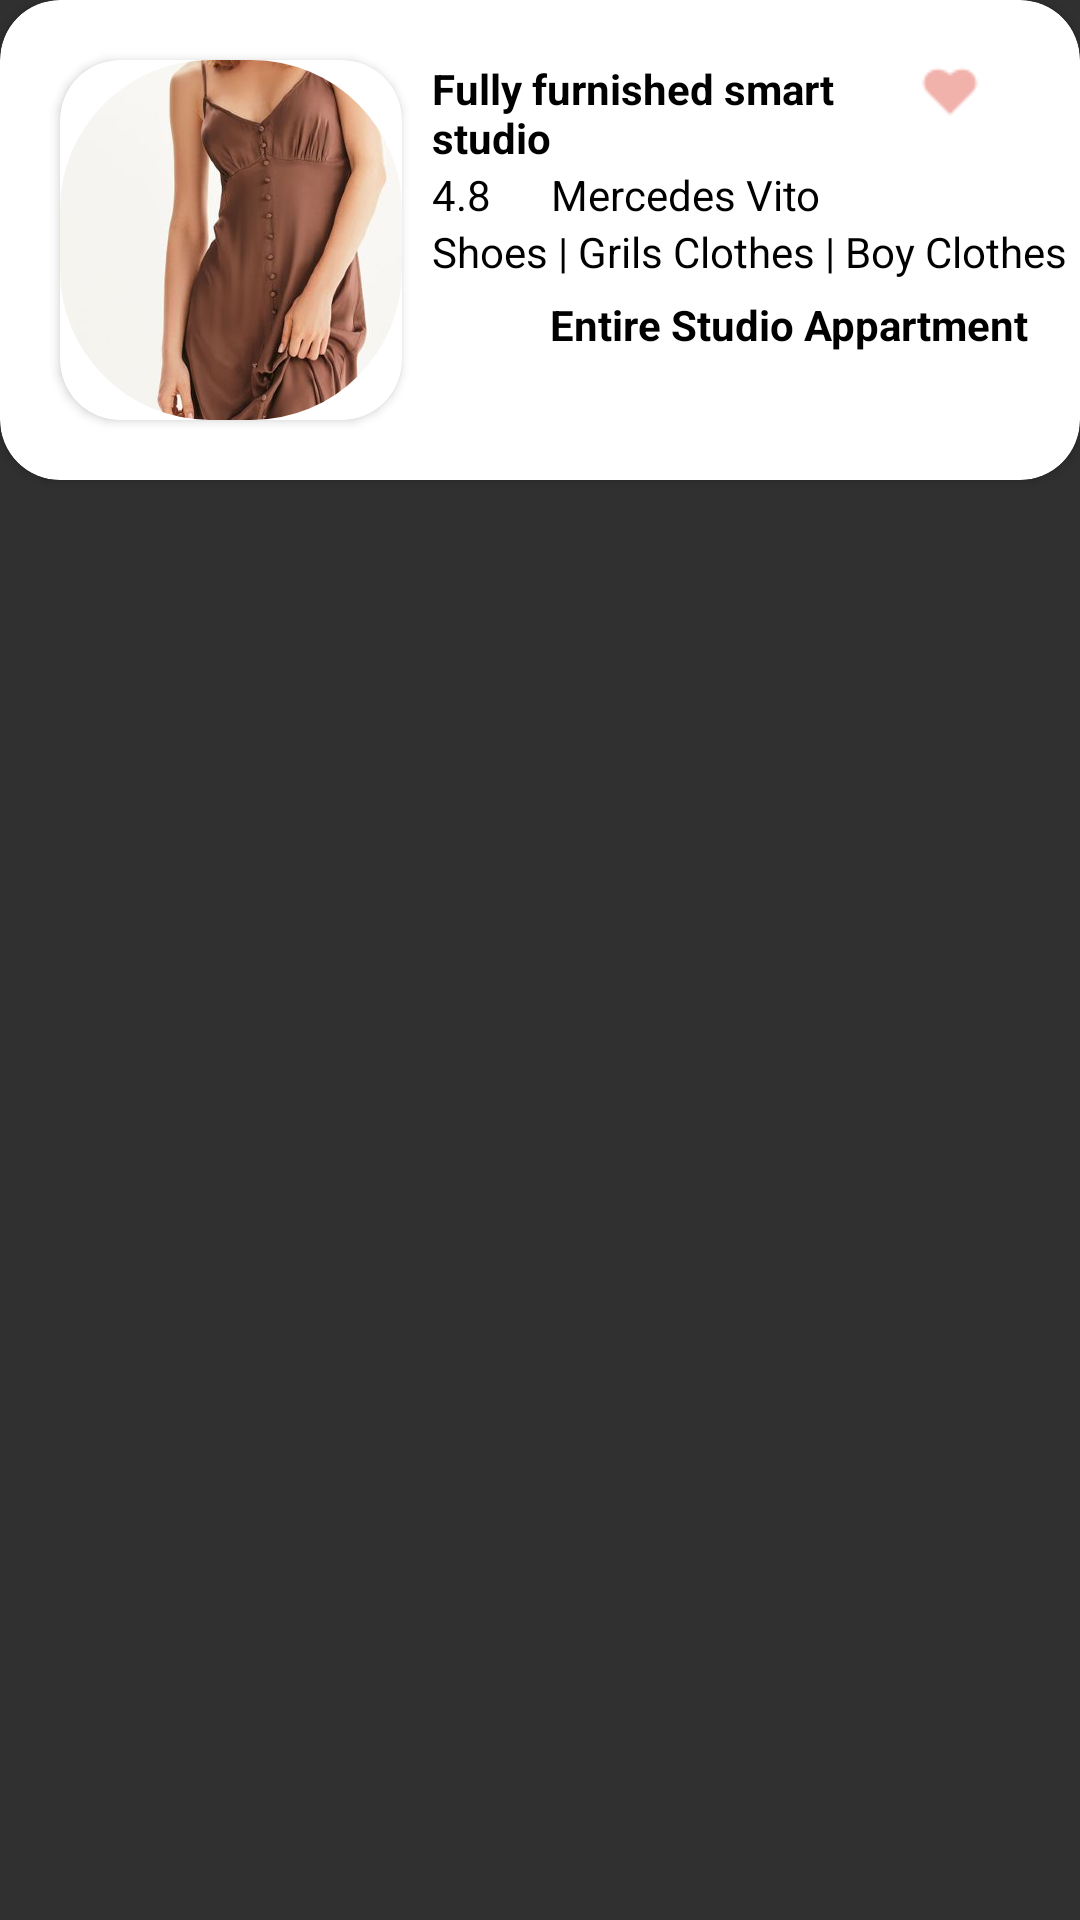

Point at icon controls on the screen. Image size 1080 x 1920, points as [x,y].
dress: [223,240]
heartsmallicon: [950,91]
